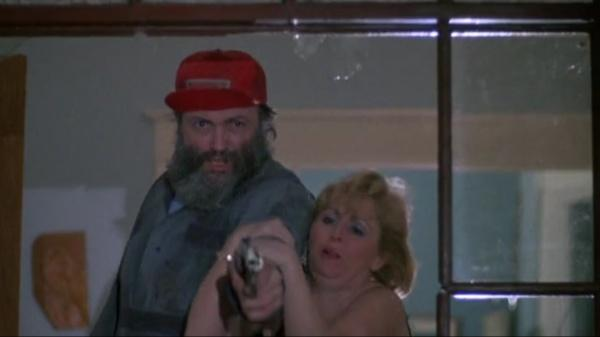Gun: (233, 236, 264, 295)
